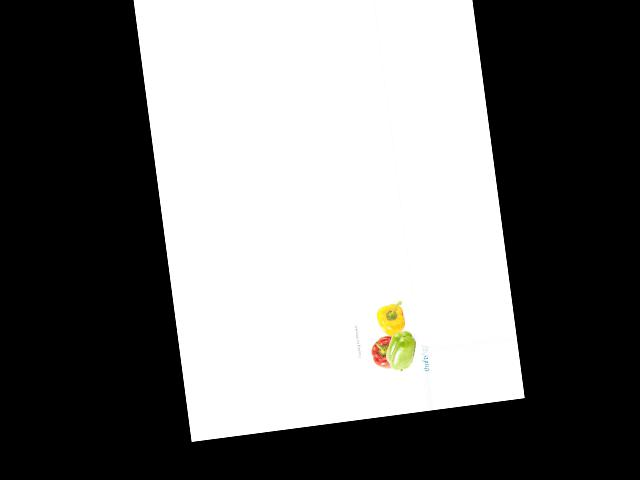bell_pepper: (383, 326, 422, 373)
